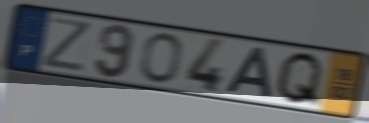4: (184, 37, 228, 94)
9: (94, 22, 136, 81)
A: (223, 45, 276, 101)
O: (139, 31, 184, 86)
Q: (273, 50, 327, 110)
Z: (40, 15, 94, 74)
